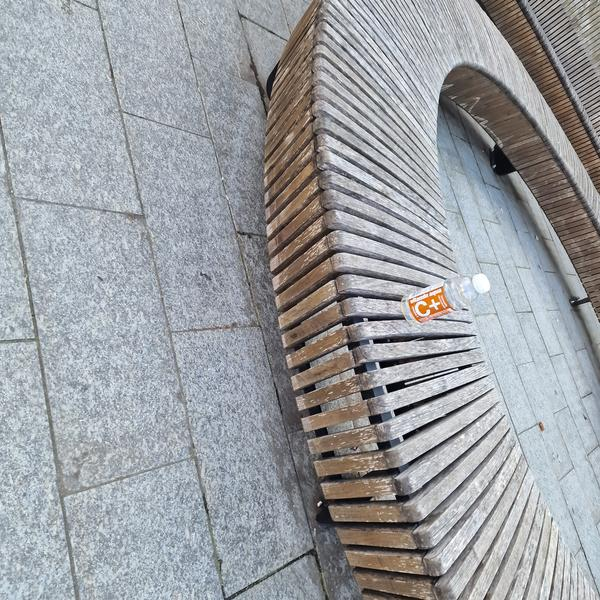plastic_bottle: (396, 262, 496, 330)
